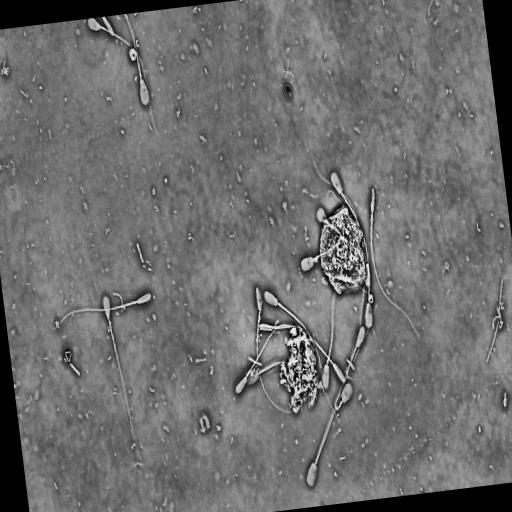dirt-particles: (317, 200, 368, 298), (277, 324, 325, 420), (63, 348, 81, 379), (492, 301, 504, 332), (199, 412, 212, 435), (283, 80, 293, 100), (128, 46, 138, 64), (502, 390, 508, 413)
folded-tail: (335, 328, 369, 410)
loose-tail: (484, 275, 505, 367)
normal: (263, 288, 340, 427), (86, 18, 160, 138), (369, 186, 421, 341), (253, 281, 298, 419), (321, 277, 369, 392), (101, 293, 136, 443), (305, 376, 350, 490), (52, 290, 153, 334), (234, 322, 294, 396), (335, 327, 369, 411), (122, 14, 150, 107)
